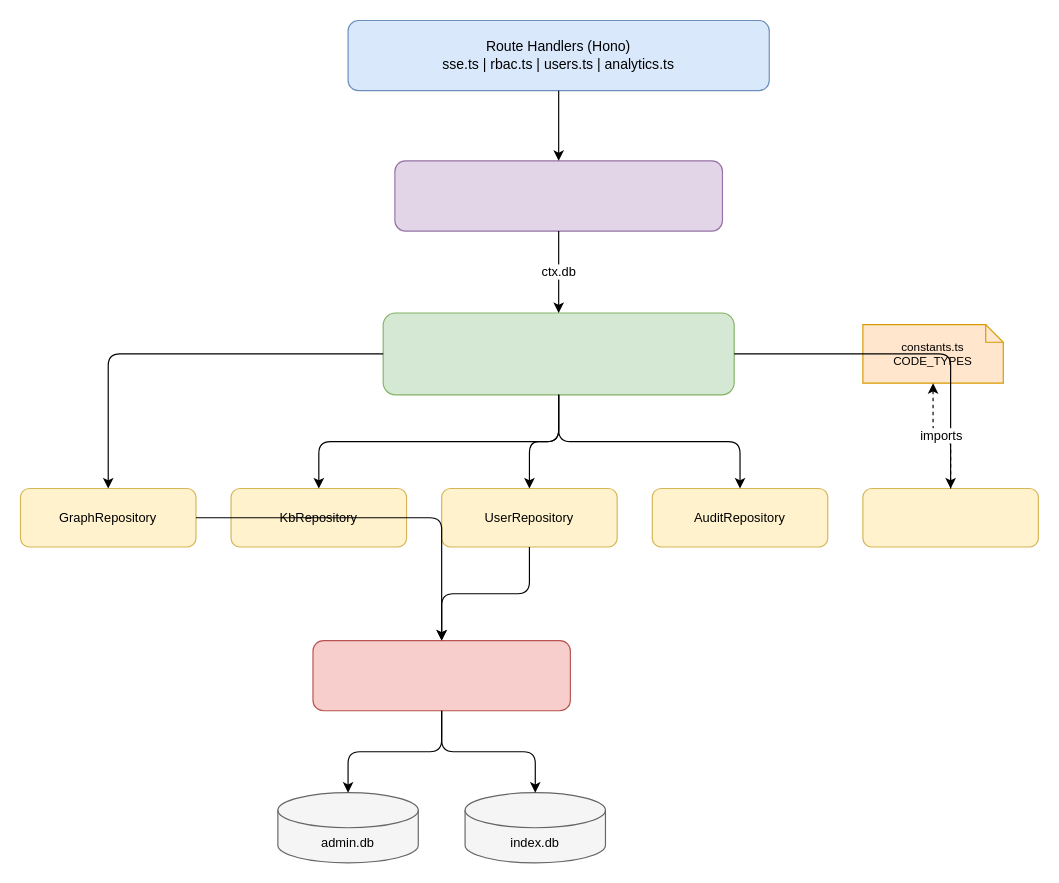
The diagram is 1059 pixels wide and 883 high, and some of its shapes have lost their labels. The box of each missing label's shape, as (x1, y1, x2, y2) in pixels:
AdminContext (DI Container) ctx.db: DatabaseManager: (394, 160, 722, 231)
DatabaseAdapter (SA4E-45) SqliteAdapter: (312, 639, 570, 711)
DatabaseManager: (382, 312, 734, 395)
SymbolRepository: (862, 487, 1038, 547)
